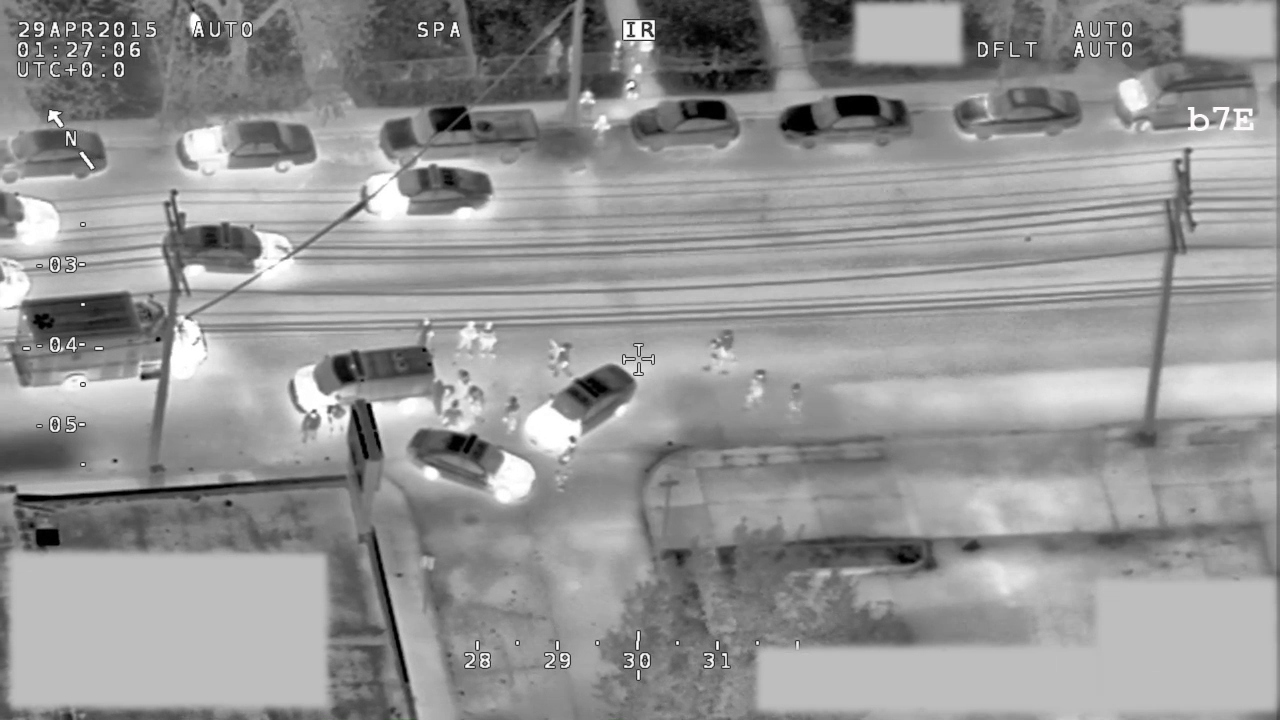vehicle: (9, 301, 214, 397), (290, 325, 445, 420), (521, 359, 638, 462), (404, 425, 535, 509), (1112, 57, 1260, 131), (377, 101, 545, 165), (172, 119, 319, 179), (160, 221, 303, 281), (778, 91, 914, 153), (949, 83, 1086, 142), (362, 161, 499, 219), (629, 94, 747, 155), (1, 123, 110, 184)
